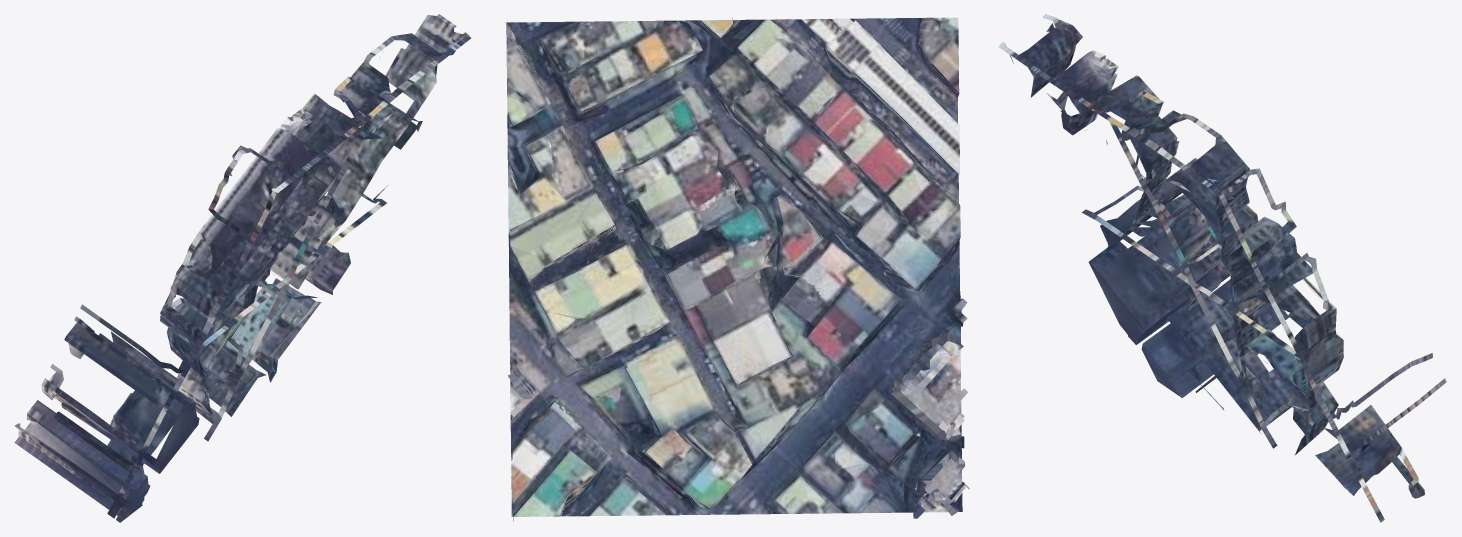
3 views of the same model, side by side, from view 1: azimuth 30°, elevation 25°; view 2: azimuth 150°, elevation 25°; view 3: azimuth 270°, elevation 25° (orthographic). The views are drawn at different scales.
Bounding box in the file's own units: 173 × 148 × 151.
Materials: 2 (2 with a texture image).
